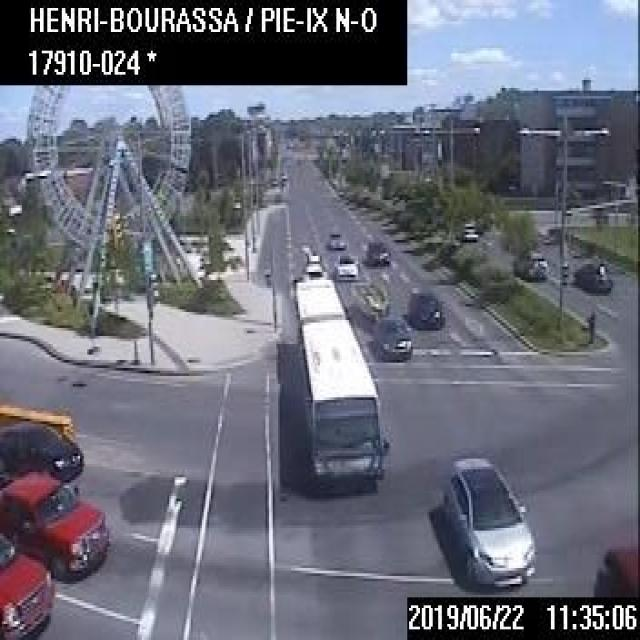bus: (293, 277, 389, 488)
vehicle: (444, 453, 534, 587), (0, 472, 109, 579), (0, 531, 51, 637), (0, 419, 82, 480), (587, 547, 638, 597), (370, 314, 410, 360), (405, 290, 444, 328), (571, 258, 611, 290), (509, 248, 547, 280), (364, 241, 390, 264), (333, 252, 357, 276), (324, 231, 344, 247), (460, 219, 476, 237)
